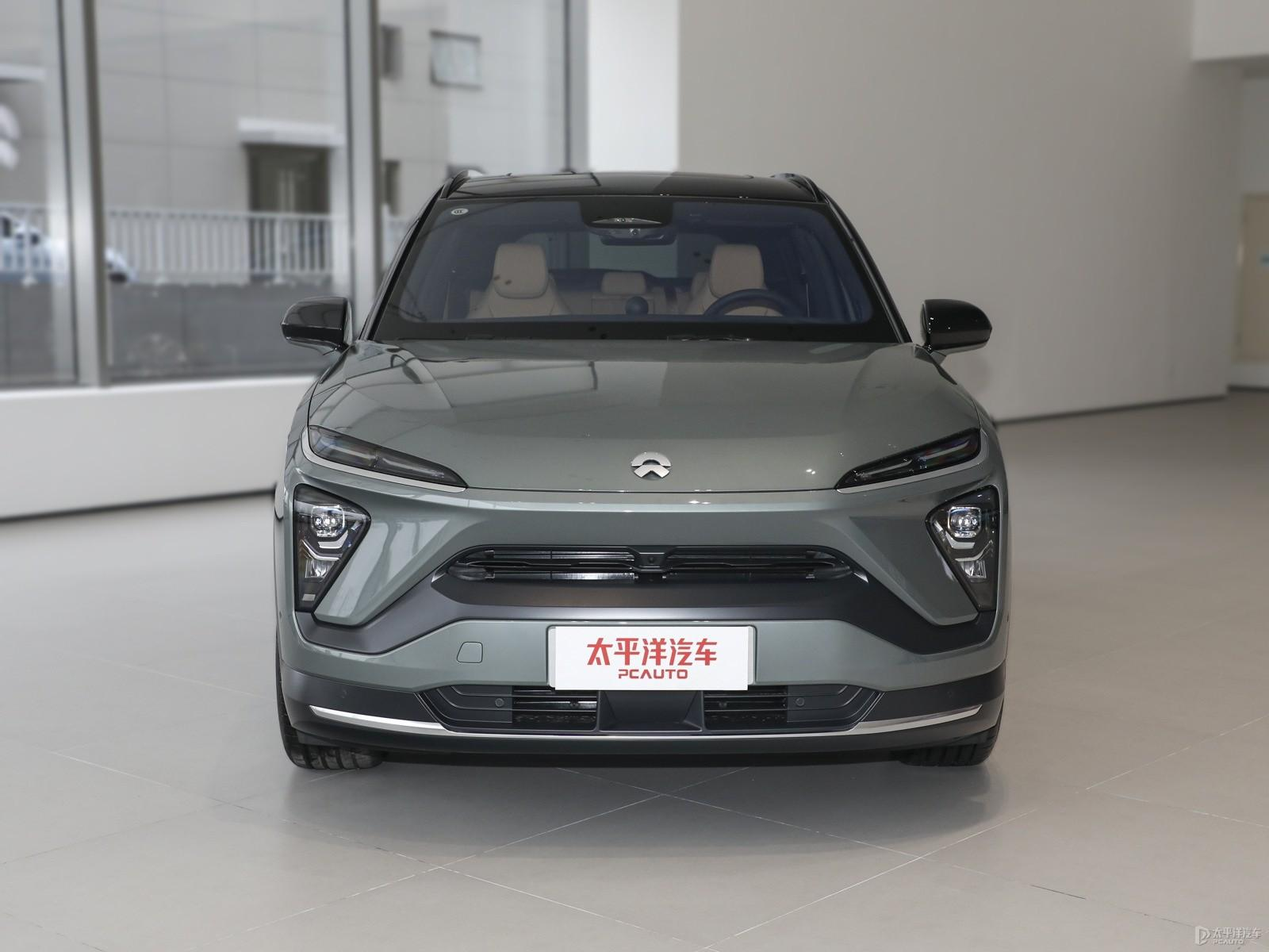NIO: (631, 451, 671, 479)
